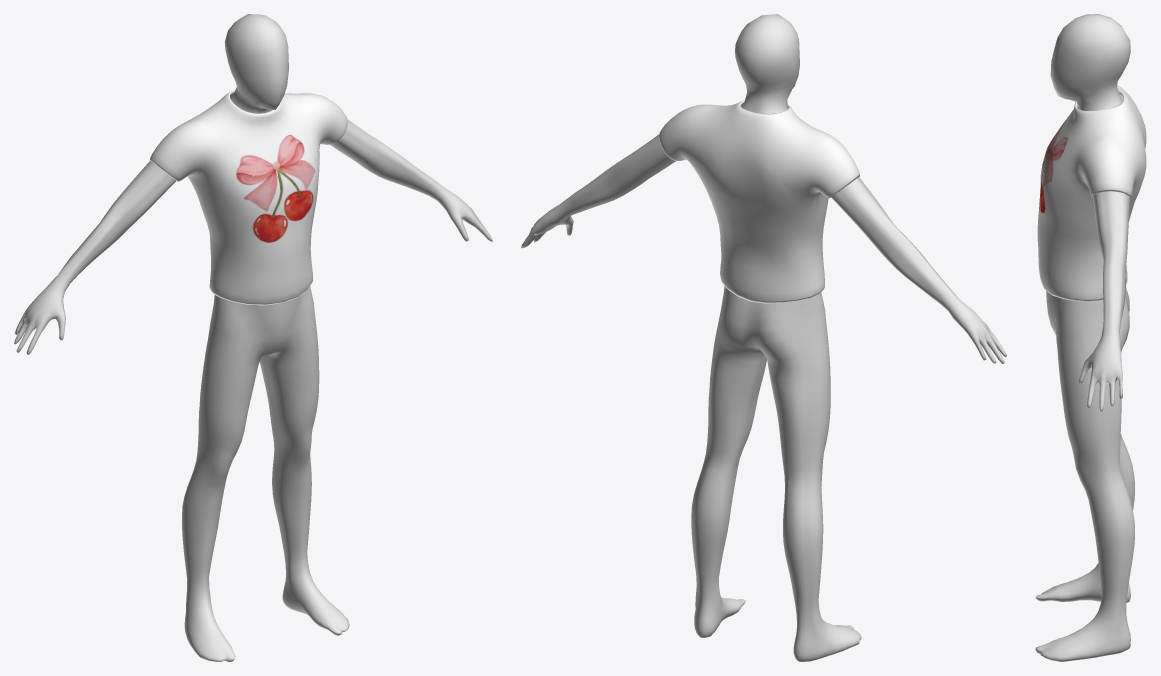
Rendered from Basic Tee3 Manequeen_Model.fbx.
3 views of the same model, side by side, from view 1: azimuth 30°, elevation 25°; view 2: azimuth 150°, elevation 25°; view 3: azimuth 270°, elevation 25° (orthographic).
Visible parts, largest first — view 1: Player, Basic Tee1; view 2: Player, Basic Tee1; view 3: Player, Basic Tee1.
Boxes of the visible parts, <box> form: Player: <box>14,14,492,661</box>; Basic Tee1: <box>149,89,347,305</box>; Player: <box>521,14,1006,661</box>; Basic Tee1: <box>659,100,859,303</box>; Player: <box>1035,14,1134,661</box>; Basic Tee1: <box>1037,85,1146,301</box>.
Size of the model in its own units: 2318 by 2864 by 472.
Materials: 3 (3 with a texture image).
